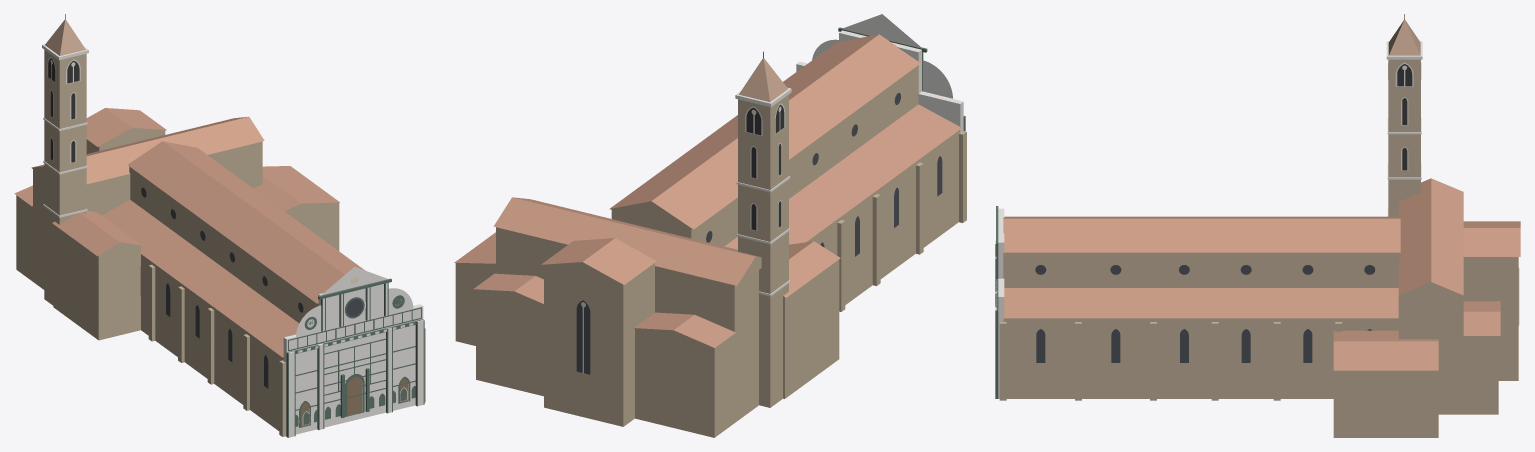
Rendered from santa_maria_novella.glb.
The picture shows the model from 3 angles, left to right: view 1: azimuth 30°, elevation 25°; view 2: azimuth 150°, elevation 25°; view 3: azimuth 270°, elevation 25°; orthographic projection. The views are drawn at different scales.
Visible parts, largest first — view 1: smn_east@1300-99999.stone, smn_nave_east@1330-99999.roof, smn_east@1300-99999.roof, smn_nave_east@1330-99999.stone, facade_lower@1360-99999.white, smn_nave_west@1357-99999.stone, smn_nave_west@1357-99999.roof, campanile_smn@1330-99999.stone, facade_upper@1470-99999.white, facade_lower@1360-99999.green, facade_upper@1470-99999.green, campanile_smn@1330-99999.white (+5 smaller); view 2: smn_east@1300-99999.stone, smn_east@1300-99999.roof, smn_nave_east@1330-99999.roof, smn_nave_west@1357-99999.roof, smn_nave_west@1357-99999.stone, campanile_smn@1330-99999.stone, smn_nave_east@1330-99999.stone, facade_upper@1470-99999.white, campanile_smn@1330-99999.white, campanile_smn@1330-99999.brick, campanile_smn@1330-99999.dark, smn_east@1300-99999.glass (+1 smaller); view 3: smn_nave_east@1330-99999.stone, smn_east@1300-99999.stone, smn_nave_west@1357-99999.stone, smn_nave_east@1330-99999.roof, smn_east@1300-99999.roof, smn_nave_west@1357-99999.roof, campanile_smn@1330-99999.stone, smn_nave_east@1330-99999.glass, campanile_smn@1330-99999.white, smn_nave_west@1357-99999.glass, campanile_smn@1330-99999.brick, facade_upper@1470-99999.white (+2 smaller).
Boxes of the visible parts, x1,y1,x2,y2 form: smn_east@1300-99999.stone: [16, 128, 339, 340]; smn_nave_east@1330-99999.roof: [101, 141, 314, 304]; smn_east@1300-99999.roof: [14, 108, 339, 256]; smn_nave_east@1330-99999.stone: [129, 166, 247, 384]; facade_lower@1360-99999.white: [283, 320, 424, 437]; smn_nave_west@1357-99999.stone: [212, 253, 425, 436]; smn_nave_west@1357-99999.roof: [211, 227, 364, 357]; campanile_smn@1330-99999.stone: [44, 50, 86, 305]; facade_upper@1470-99999.white: [283, 266, 423, 352]; facade_lower@1360-99999.green: [286, 319, 424, 437]; facade_upper@1470-99999.green: [288, 278, 421, 418]; campanile_smn@1330-99999.white: [42, 44, 88, 217]; smn_east@1300-99999.stone: [454, 227, 839, 437]; smn_east@1300-99999.roof: [455, 197, 840, 347]; smn_nave_east@1330-99999.roof: [610, 97, 876, 249]; smn_nave_west@1357-99999.roof: [783, 34, 962, 190]; smn_nave_west@1357-99999.stone: [833, 65, 966, 278]; campanile_smn@1330-99999.stone: [738, 94, 788, 407]; smn_nave_east@1330-99999.stone: [609, 128, 880, 311]; facade_upper@1470-99999.white: [796, 14, 963, 119]; campanile_smn@1330-99999.white: [735, 87, 791, 296]; campanile_smn@1330-99999.brick: [739, 58, 787, 102]; campanile_smn@1330-99999.dark: [746, 104, 784, 230]; smn_east@1300-99999.glass: [576, 300, 590, 374]; smn_nave_east@1330-99999.stone: [1150, 252, 1400, 400]; smn_east@1300-99999.stone: [1333, 257, 1518, 437]; smn_nave_west@1357-99999.stone: [999, 252, 1153, 400]; smn_nave_east@1330-99999.roof: [1153, 216, 1400, 318]; smn_east@1300-99999.roof: [1333, 178, 1520, 370]; smn_nave_west@1357-99999.roof: [1003, 216, 1153, 318]; campanile_smn@1330-99999.stone: [1388, 59, 1420, 216]; smn_nave_east@1330-99999.glass: [1179, 265, 1375, 362]; campanile_smn@1330-99999.white: [1386, 41, 1422, 216]; smn_nave_west@1357-99999.glass: [1035, 265, 1121, 362]; campanile_smn@1330-99999.brick: [1388, 20, 1420, 55]; facade_upper@1470-99999.white: [998, 208, 1004, 310].
Size of the model in its own units: 62.2 by 66.4 by 105.
